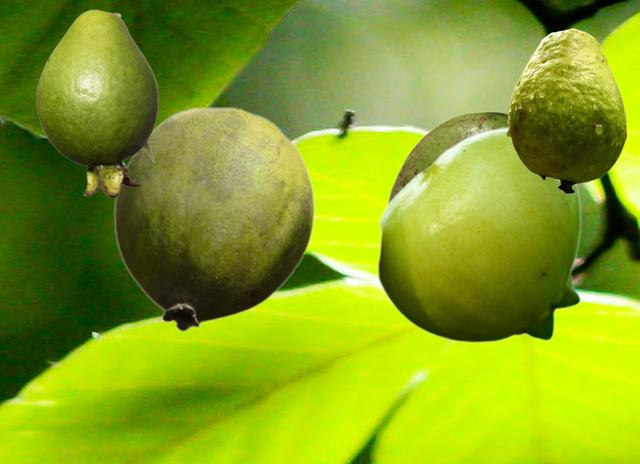guava: (113, 106, 315, 331), (376, 126, 581, 342), (36, 9, 157, 197), (506, 28, 626, 193), (387, 111, 507, 202)
